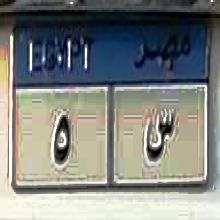5: (49, 108, 73, 169)
seen: (141, 105, 176, 168)
